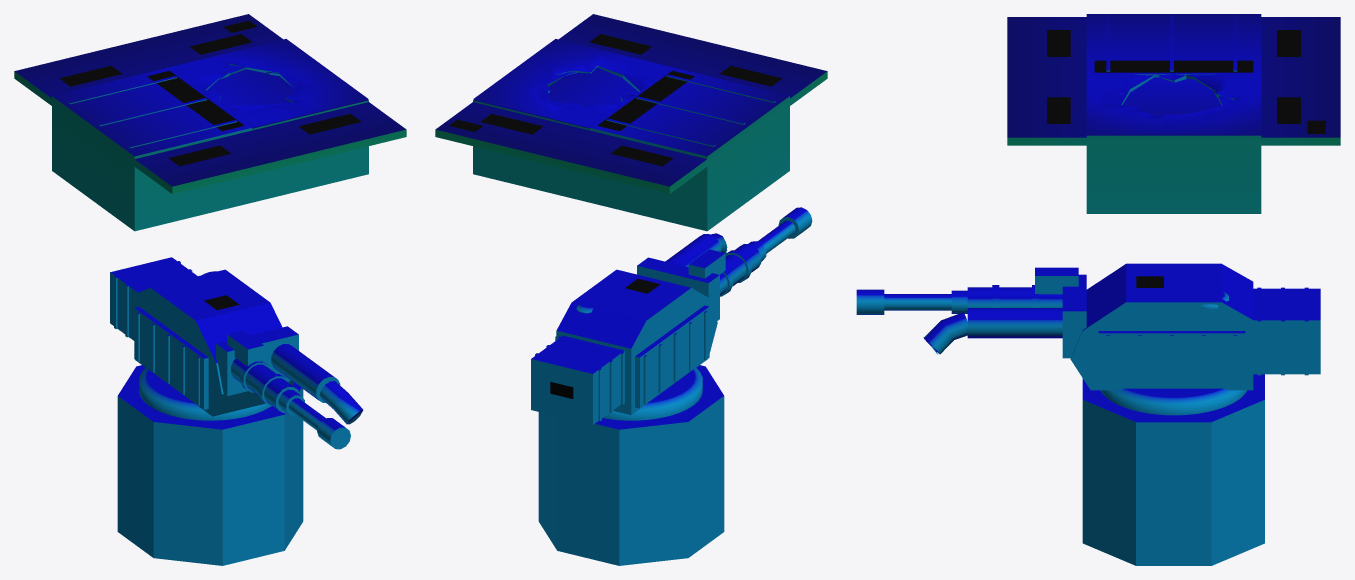
File: autocannoncamo4_damaged.glb
3 views of the same model, side by side, from view 1: azimuth 30°, elevation 25°; view 2: azimuth 150°, elevation 25°; view 3: azimuth 270°, elevation 25° (orthographic). The views are drawn at different scales.
Visible parts, largest first — view 1: lod0_Base, lod0_Pop, lod0_Turret, lod0_pop_door_l, lod0_Gun, lod0_pop_door_r, lod1_pop_door_r; view 2: lod0_Base, lod0_Pop, lod0_Turret, lod0_pop_door_l, lod0_pop_door_r, lod0_Gun, lod1_pop_door_r; view 3: lod0_Base, lod0_Turret, lod0_Pop, lod0_pop_door_l, lod0_Gun, lod0_pop_door_r, lod1_pop_door_r, lod1_Turret.
Boxes of the visible parts, <box> form: lod0_Base: <box>14,14,406,231</box>; lod0_Pop: <box>117,365,303,565</box>; lod0_Turret: <box>110,257,293,420</box>; lod0_pop_door_l: <box>52,67,251,162</box>; lod0_Gun: <box>216,326,363,449</box>; lod0_pop_door_r: <box>169,39,368,127</box>; lod1_pop_door_r: <box>173,39,366,127</box>; lod0_Base: <box>435,14,827,231</box>; lod0_Pop: <box>538,365,724,565</box>; lod0_Turret: <box>531,269,717,424</box>; lod0_pop_door_l: <box>590,67,789,162</box>; lod0_pop_door_r: <box>473,39,672,127</box>; lod0_Gun: <box>637,207,812,320</box>; lod1_pop_door_r: <box>474,39,671,126</box>; lod0_Base: <box>1007,17,1340,213</box>; lod0_Turret: <box>1070,263,1320,415</box>; lod0_Pop: <box>1082,374,1264,565</box>; lod0_pop_door_l: <box>1086,14,1261,77</box>; lod0_Gun: <box>856,267,1086,358</box>; lod0_pop_door_r: <box>1086,74,1261,141</box>; lod1_pop_door_r: <box>1086,74,1261,134</box>; lod1_Turret: <box>1108,388,1239,413</box>.
Size of the model in its own units: 7.2 by 12.63 by 12.2.
